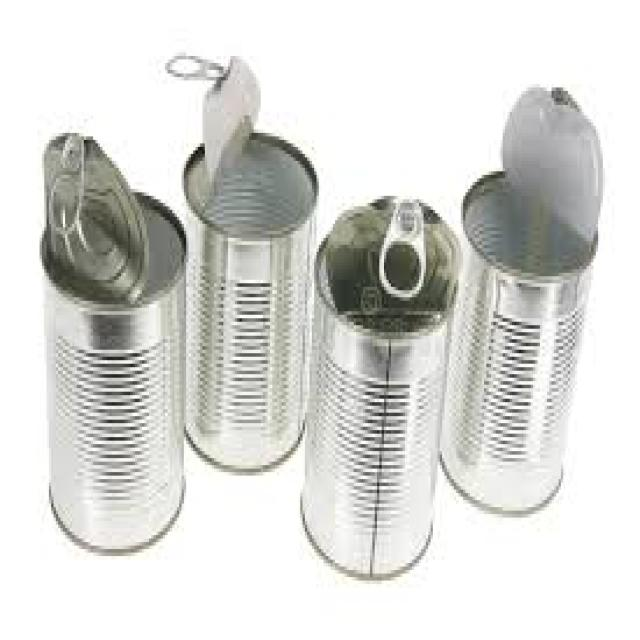metal: (440, 84, 598, 511), (165, 53, 319, 479), (37, 126, 186, 552), (300, 196, 456, 580), (437, 161, 596, 514), (37, 189, 189, 556), (184, 126, 319, 472), (40, 133, 147, 304), (321, 193, 454, 326), (498, 84, 598, 245), (170, 49, 256, 213), (377, 192, 421, 294)
